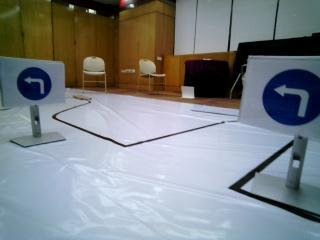left: (250, 64, 320, 135), (5, 55, 67, 103)
